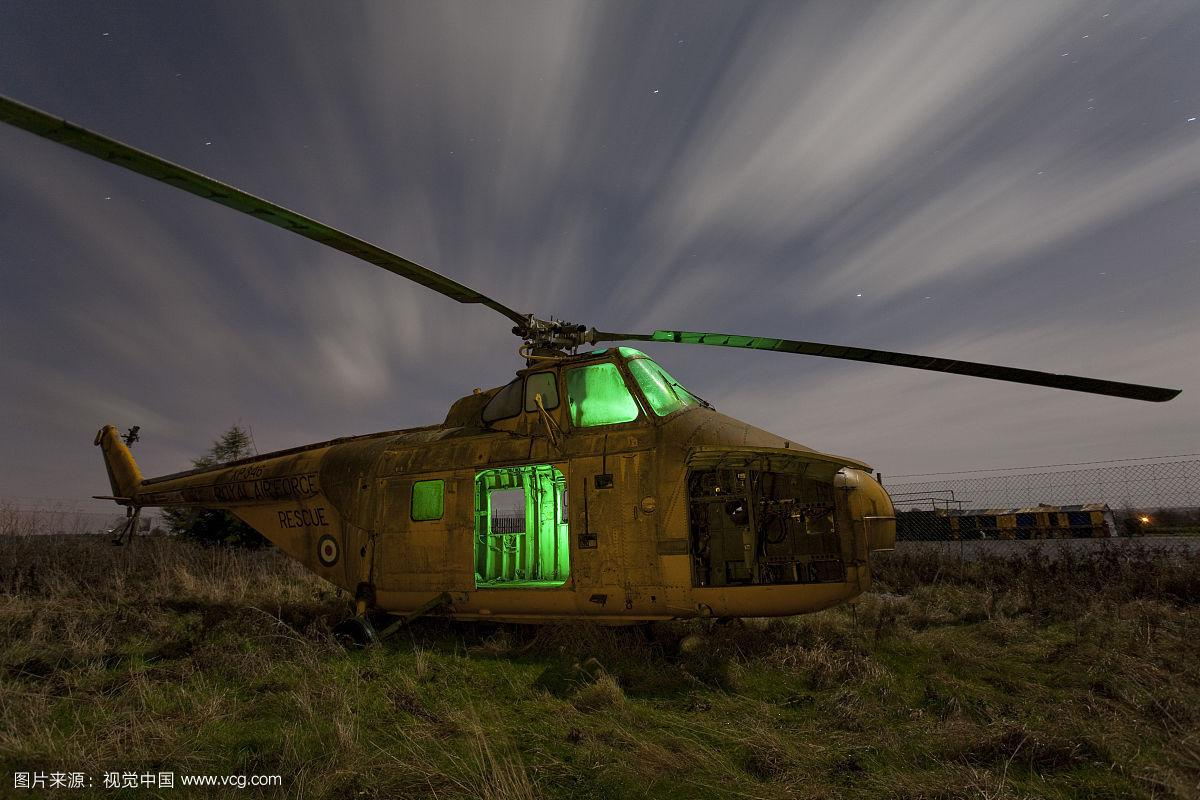airplane: (4, 81, 1182, 640)
